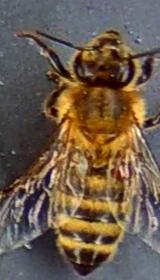varroa_mite: (107, 148, 148, 186)
